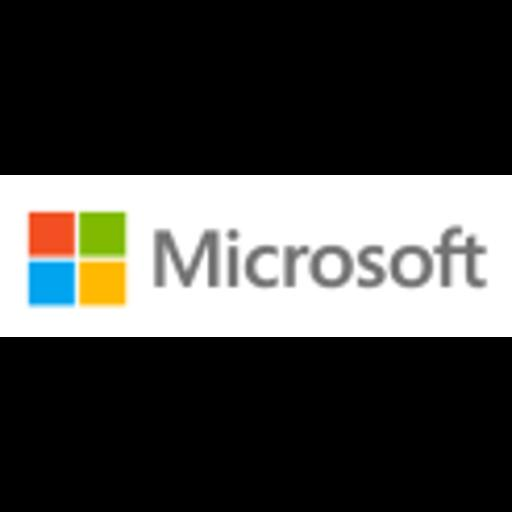Outlook: (0, 175, 512, 337)
